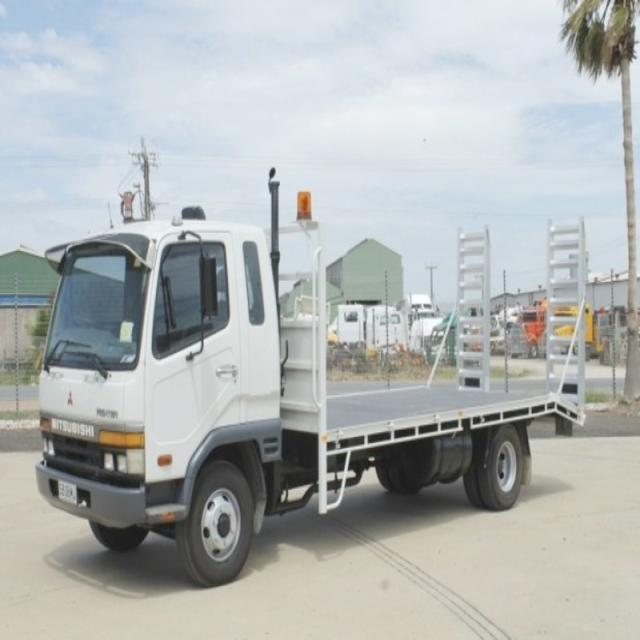truck: (32, 169, 591, 588)
